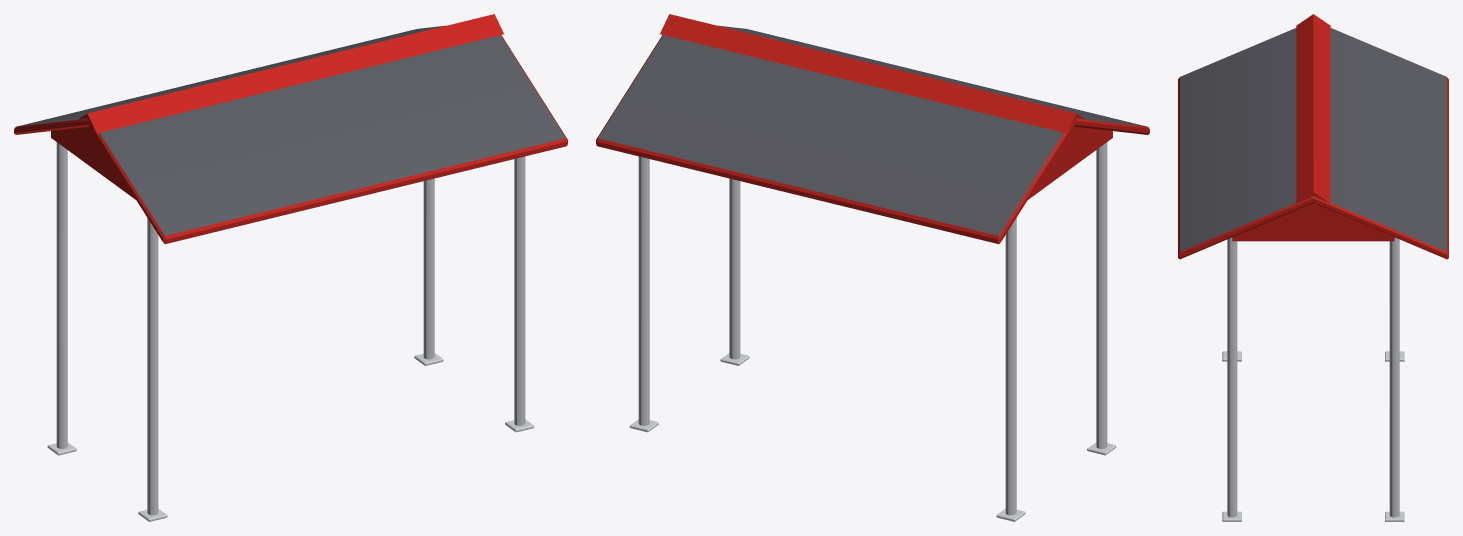
The model's file is techo_dos_aguas_chico.glb.
3 renders of one model, left to right at view 1: azimuth 30°, elevation 25°; view 2: azimuth 150°, elevation 25°; view 3: azimuth 270°, elevation 25°, orthographic. The views are drawn at different scales.
Parts seen in each view (by area): view 1: pieza_tramo, pieza_punta_izq, pieza_punta_der; view 2: pieza_tramo, pieza_punta_izq, pieza_punta_der; view 3: pieza_tramo, pieza_punta_der, pieza_punta_izq.
Boxes of the visible parts, x1,y1,x2,y2 form: pieza_tramo: [87, 32, 497, 226]; pieza_punta_izq: [14, 95, 235, 521]; pieza_punta_der: [349, 14, 567, 432]; pieza_tramo: [666, 32, 1076, 226]; pieza_punta_izq: [928, 95, 1149, 521]; pieza_punta_der: [596, 14, 814, 432]; pieza_tramo: [1178, 46, 1448, 223]; pieza_punta_der: [1178, 160, 1448, 521]; pieza_punta_izq: [1178, 14, 1448, 361].
Size of what is drawn, in the model's own units: 1.71 by 1.5 by 1.1.
